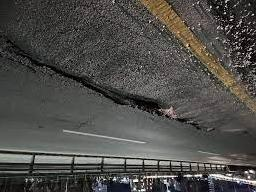pothole: (114, 85, 178, 129)
